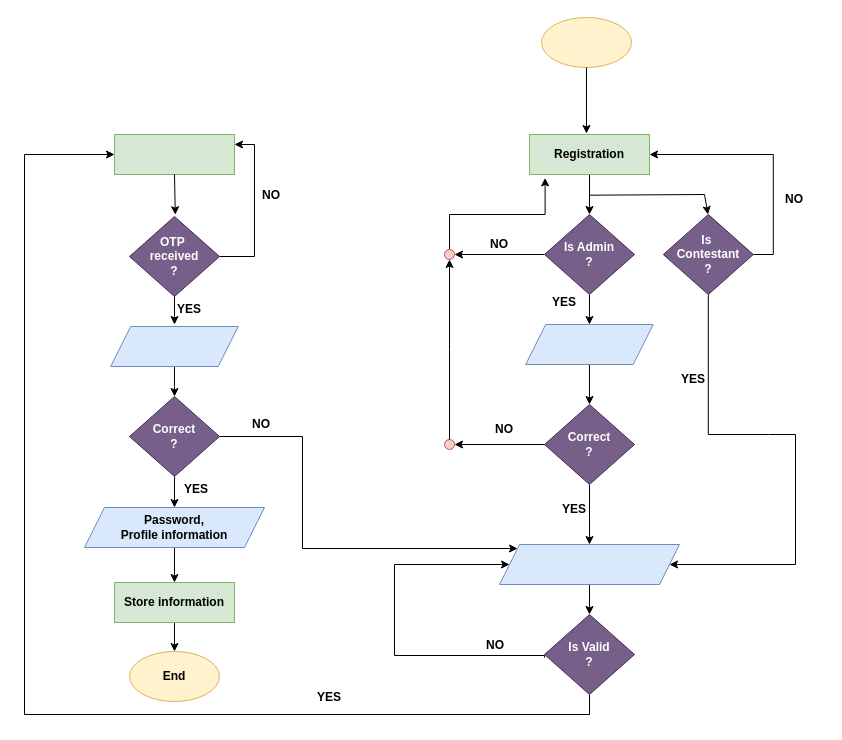
Some shapes in this 842 by 740 pixel diagram are drawn without their labels. Here are the shapes that lost their labels. From the top down, the centre of each, then its label:
At pixel 586 42: "Start".
At pixel 174 154: "Send OTP".
At pixel 174 346: "Enter OTP".
At pixel 589 344: "Pincode".
At pixel 589 564: "Email".
